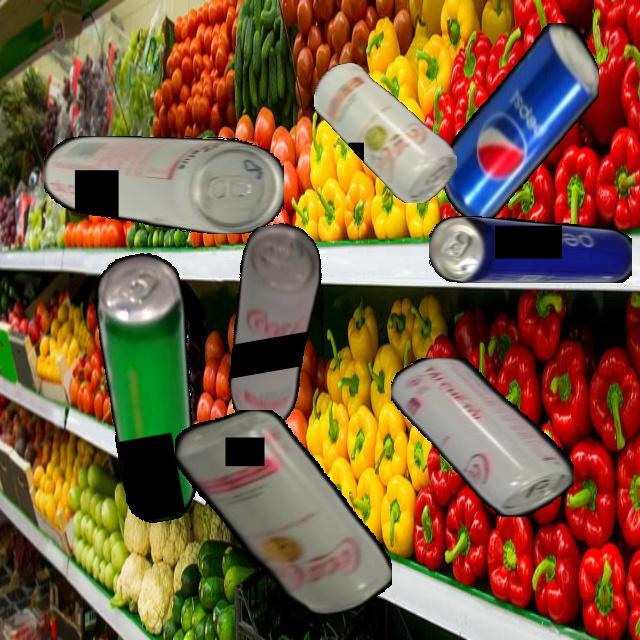debris: (174, 410, 392, 614), (82, 248, 220, 527), (442, 22, 599, 223), (204, 218, 347, 433), (391, 357, 574, 517), (43, 136, 284, 234), (314, 62, 457, 203), (429, 215, 632, 283)
